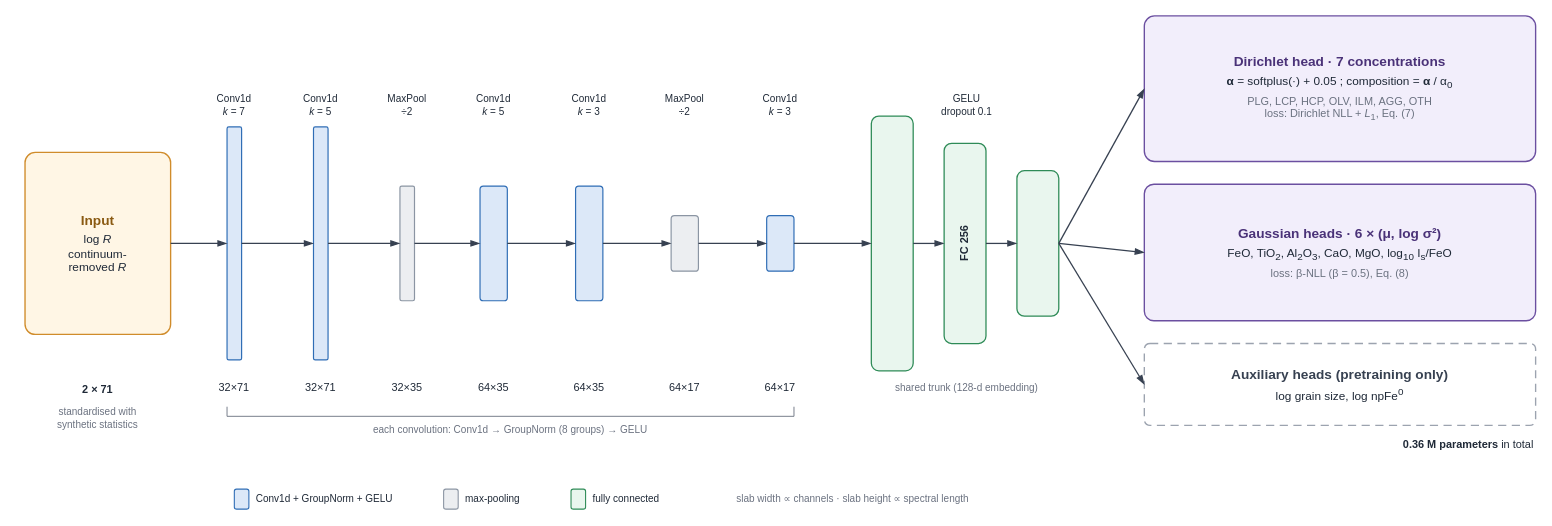
This 1552x526 diagram has some shape labels left out. Here are the shapes that lost their labels. From the top down, the centre of each, then its label:
At (x=891, y=243): "Flatten · 1088".
At (x=1037, y=243): "FC 128".
